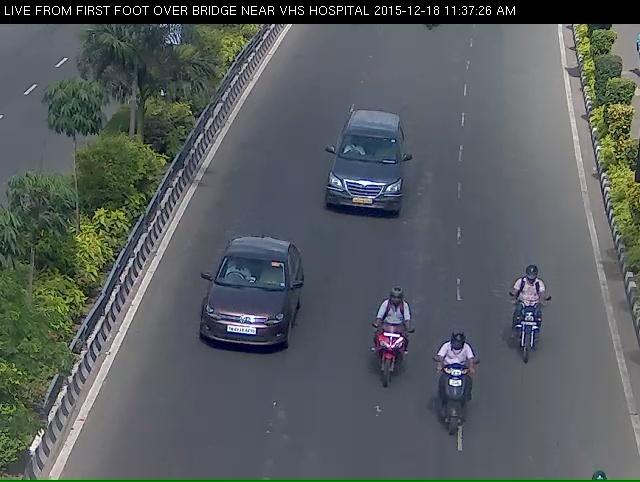Car: (176, 250, 309, 399), (314, 116, 419, 245)
Person: (436, 344, 478, 478), (359, 323, 414, 425), (513, 282, 554, 392)
